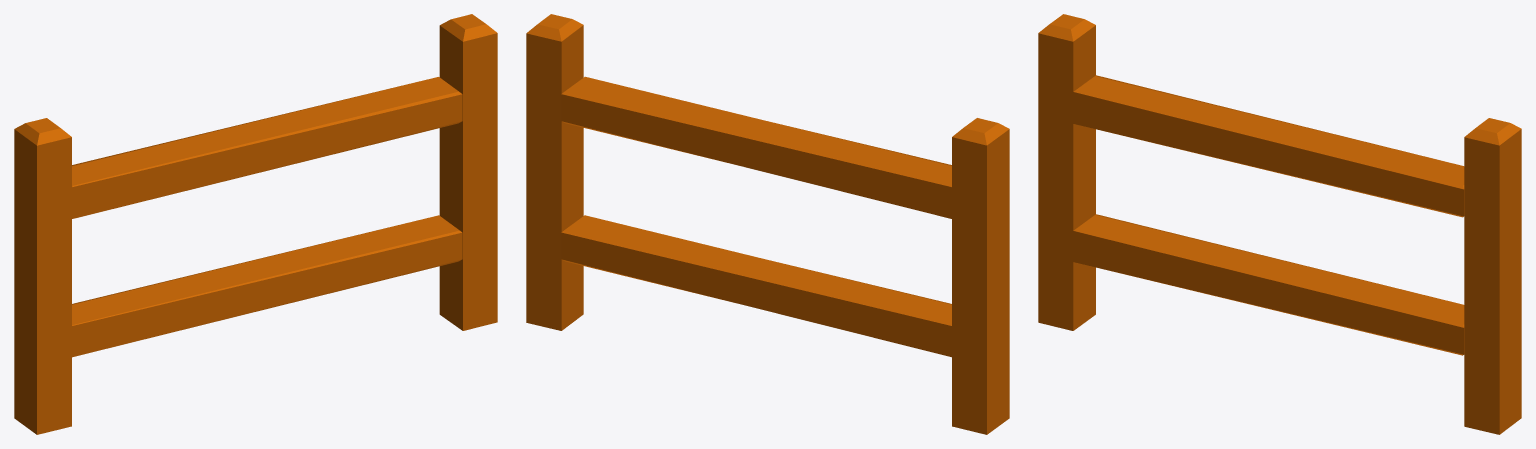
The model's file is fence.fbx.
3 renders of one model, left to right at view 1: azimuth 30°, elevation 25°; view 2: azimuth 150°, elevation 25°; view 3: azimuth 330°, elevation 25°, orthographic.
Parts seen in each view (by area): view 1: Cube; view 2: Cube; view 3: Cube.
Part boxes in pixels (bbox=[...]): Cube: bbox=[14, 14, 497, 434]; Cube: bbox=[526, 14, 1009, 434]; Cube: bbox=[1038, 14, 1521, 434].
Size of the model in its own units: 862 by 531 by 74.77.
